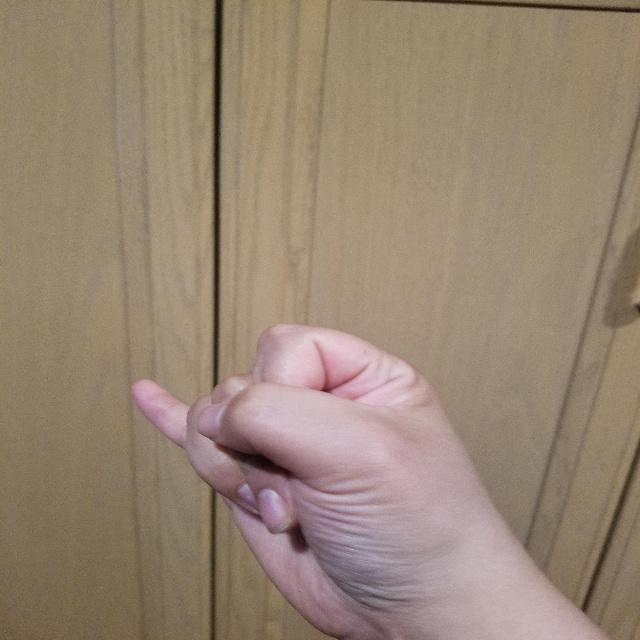J: (123, 315, 490, 639)
